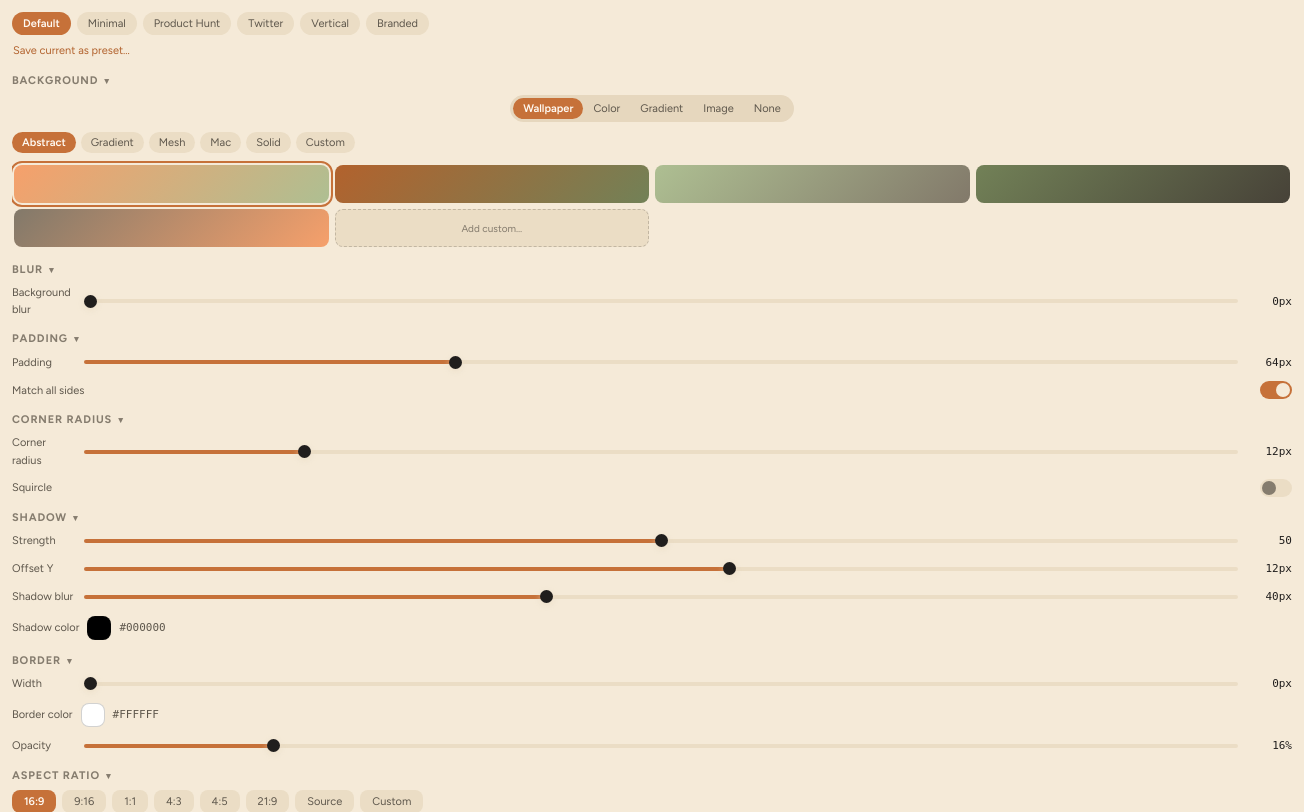
Test: Frame tab — presets with a background image › falls back to the default background with a notice when the preset image is gone
Click the button "Branded" at (397, 24), box [366, 12, 429, 35]
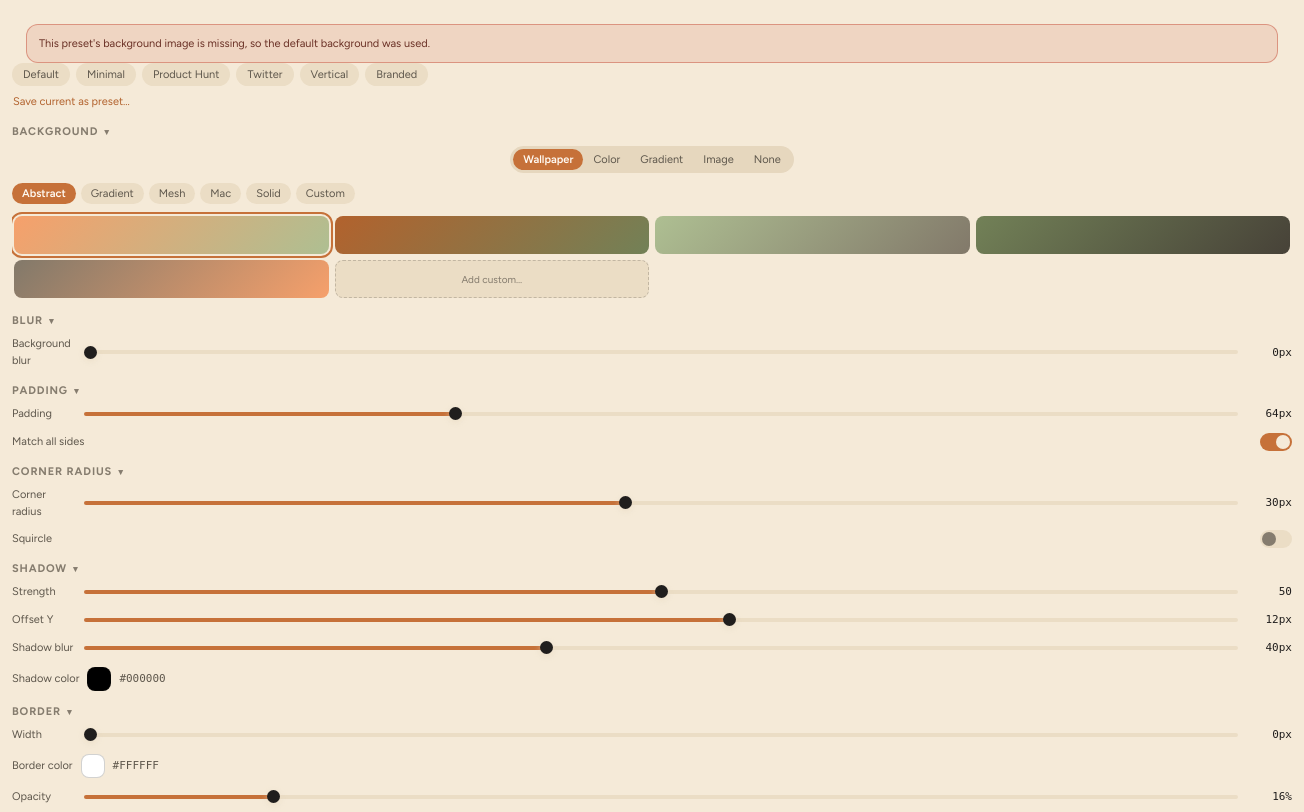
Now the message reads "This preset's background image is missing, so the default background was used.", box [39, 37, 430, 50]
